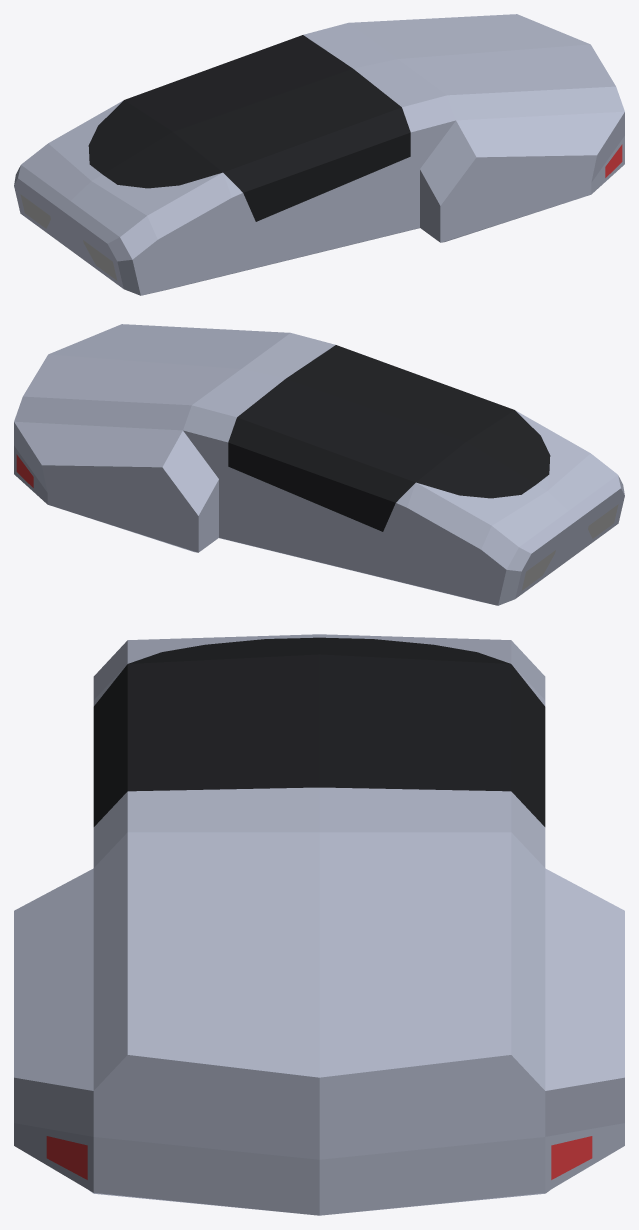
Rendered from Car-10.fbx.
3 views of the same model, one above another, from view 1: azimuth 30°, elevation 25°; view 2: azimuth 150°, elevation 25°; view 3: azimuth 270°, elevation 25° (orthographic). The views are drawn at different scales.
Parts seen in each view (by area): view 1: Car-10; view 2: Car-10; view 3: Car-10.
Part boxes in pixels (x1,y1,x2,y2): Car-10: [14, 14, 624, 295]; Car-10: [14, 324, 624, 605]; Car-10: [14, 634, 624, 1215].
Bounding box in the file's own units: 426 × 95.45 × 220.
